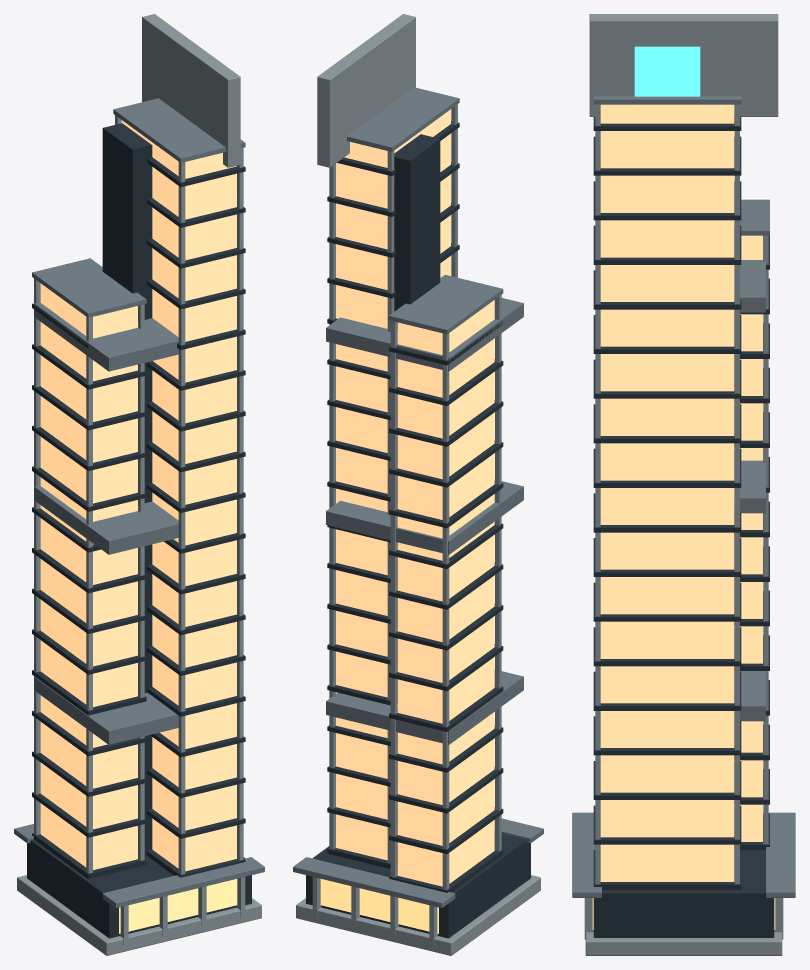
The model's file is vrx_city_hotel_a_LOD0.fbx.
3 renders of one model, left to right at view 1: azimuth 30°, elevation 25°; view 2: azimuth 150°, elevation 25°; view 3: azimuth 270°, elevation 25°, orthographic. The views are drawn at different scales.
Parts seen in each view (by area): view 1: vrx_city_hotel_a_LOD0; view 2: vrx_city_hotel_a_LOD0; view 3: vrx_city_hotel_a_LOD0.
Boxes of the visible parts, box(x1,y1,x2,y2) form: vrx_city_hotel_a_LOD0: box(14, 14, 264, 955); vrx_city_hotel_a_LOD0: box(293, 14, 543, 955); vrx_city_hotel_a_LOD0: box(572, 14, 795, 955).
Bounding box in the file's own units: 24 × 124 × 27.2.
